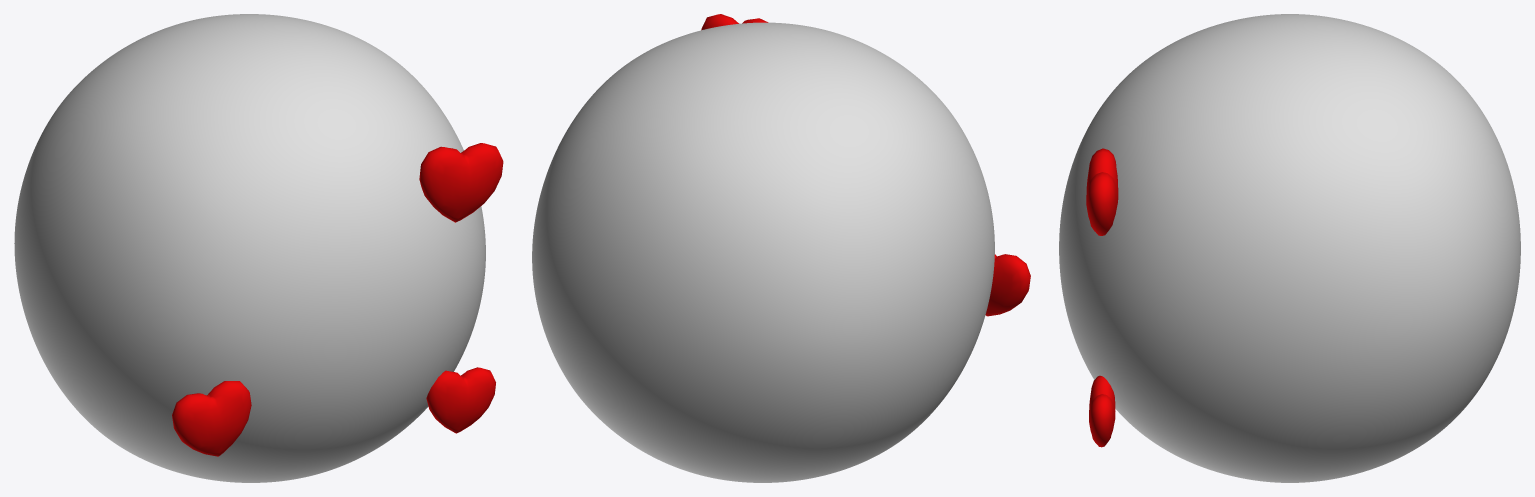
Rendered from heart smile.fbx.
The picture shows the model from 3 angles, left to right: view 1: azimuth 30°, elevation 25°; view 2: azimuth 150°, elevation 25°; view 3: azimuth 270°, elevation 25°; orthographic projection.
Parts seen in each view (by area): view 1: mesh_3, mesh_2, mesh_1, mesh_0; view 2: mesh_3, mesh_1; view 3: mesh_3, mesh_2, mesh_0.
Part boxes in pixels (x1,y1,x2,y2): mesh_3: (14, 14, 485, 482); mesh_2: (419, 143, 503, 222); mesh_1: (172, 381, 251, 456); mesh_0: (426, 367, 495, 433); mesh_3: (532, 22, 994, 482); mesh_1: (985, 254, 1030, 316); mesh_3: (1059, 14, 1520, 482); mesh_2: (1086, 148, 1118, 235); mesh_0: (1089, 375, 1115, 447).
Size of the model in its own units: 48.47 by 48.47 by 48.47.
